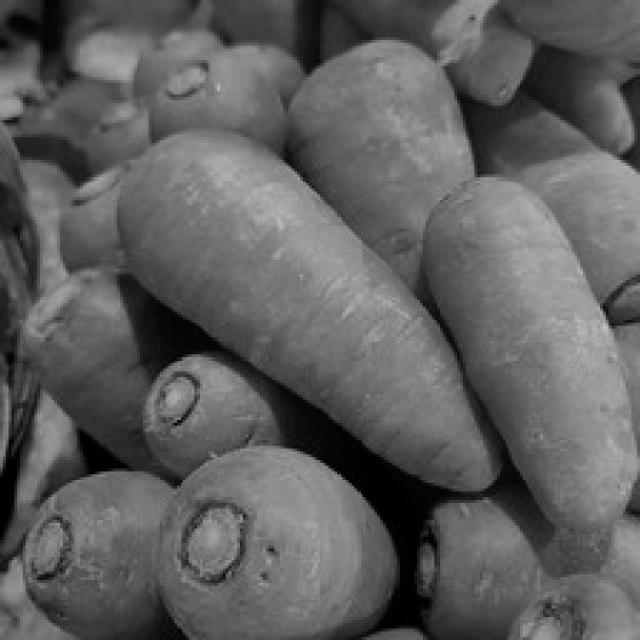Fresh_Carrot: (117, 131, 508, 459), (432, 182, 633, 530), (285, 47, 482, 283)
